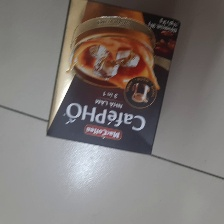CF pho: (42, 1, 187, 157)
